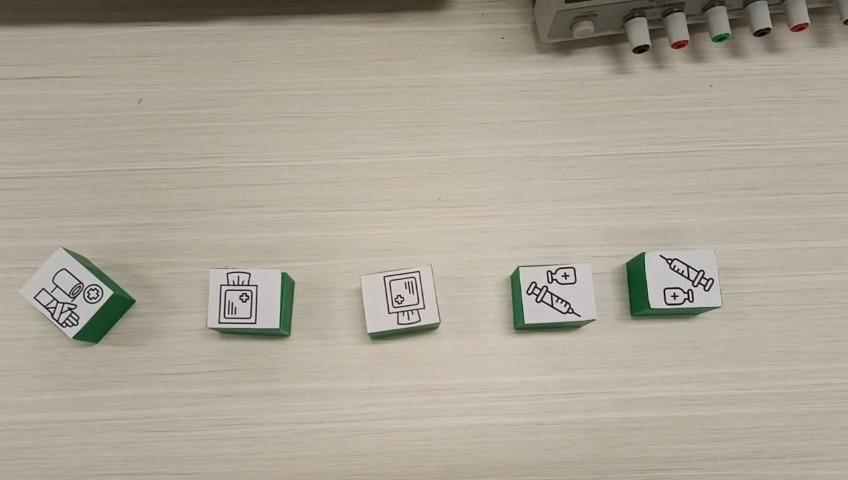Bandages: (15, 245, 135, 343)
Gauze: (359, 264, 442, 340), (207, 267, 297, 337)
antiseptic cream: (624, 246, 723, 318), (508, 262, 597, 330)
